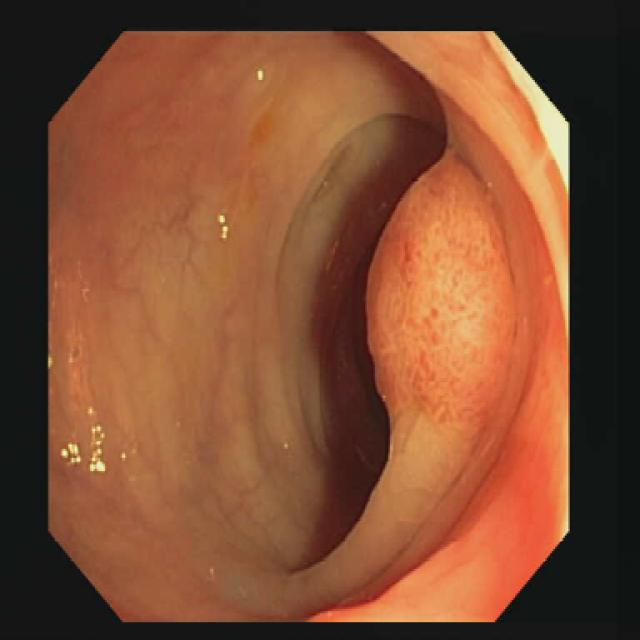tumor: (368, 149, 528, 436)
